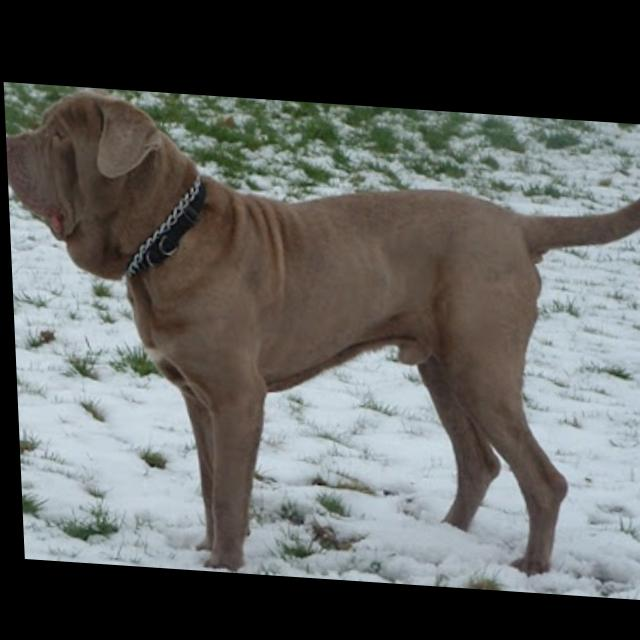mastino_napoletano: (4, 83, 640, 591)
